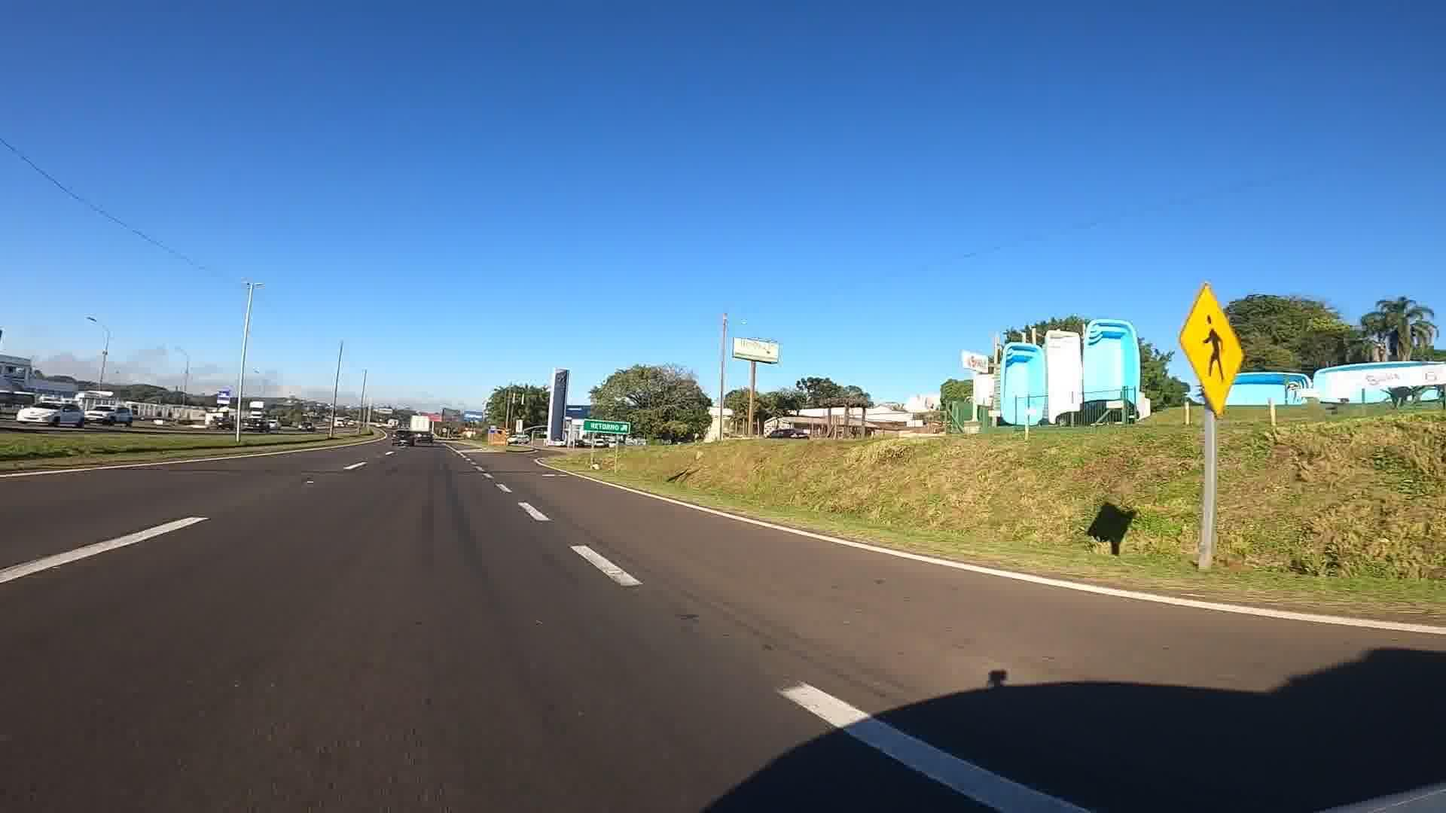A-32a: (1180, 285, 1243, 411)
